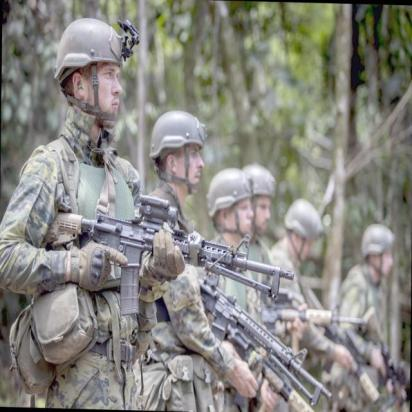Gun: (48, 186, 298, 325), (197, 273, 333, 412)
